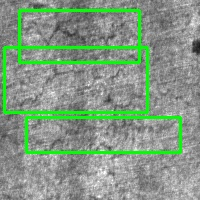crazing: (4, 47, 147, 112), (19, 10, 139, 62), (27, 117, 180, 152)
